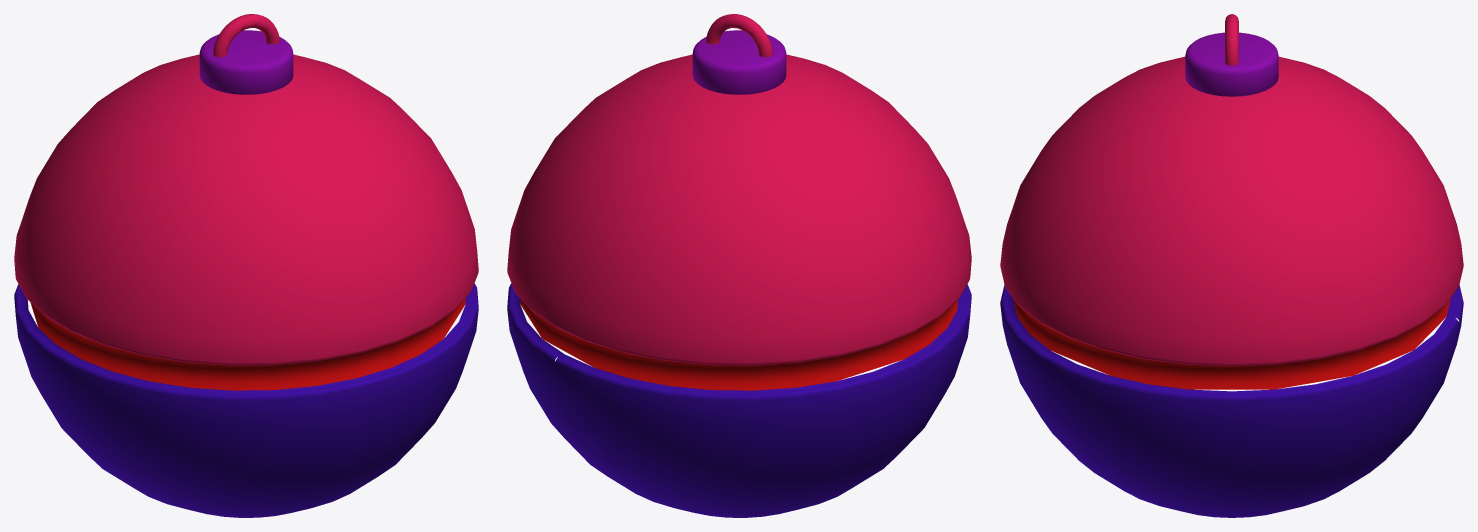
Rendered from Wrecking_Ball.glb.
The picture shows the model from 3 angles, left to right: view 1: azimuth 30°, elevation 25°; view 2: azimuth 150°, elevation 25°; view 3: azimuth 270°, elevation 25°; orthographic projection.
Parts seen in each view (by area): view 1: Wrecking_Ball; view 2: Wrecking_Ball; view 3: Wrecking_Ball.
Boxes of the visible parts, left/top/right/bottom form: Wrecking_Ball: left=14, top=14, right=478, bottom=517; Wrecking_Ball: left=507, top=14, right=971, bottom=517; Wrecking_Ball: left=1000, top=14, right=1463, bottom=517.
Bounding box in the file's own units: 1.98 × 2.26 × 1.98.
